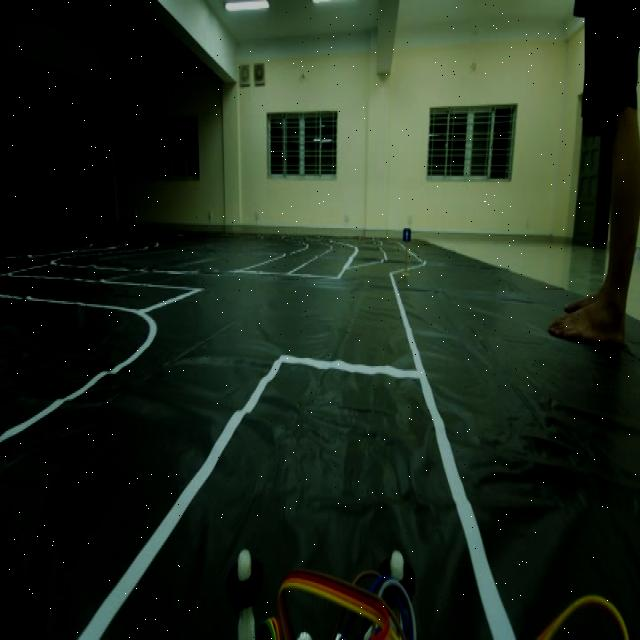onewayroad: (401, 225, 414, 247)
